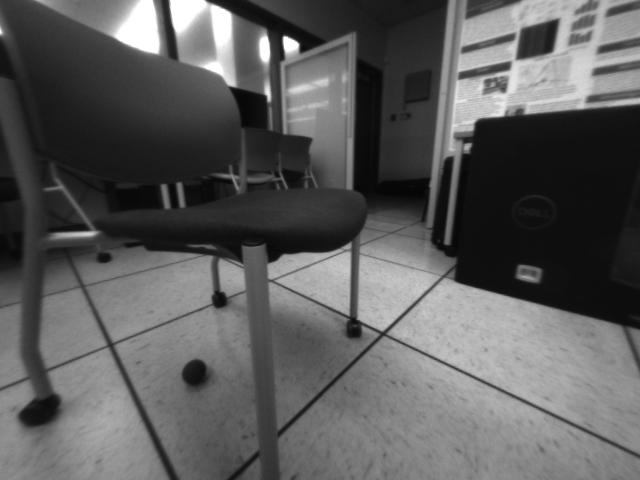dogtoy: (172, 352, 217, 393)
